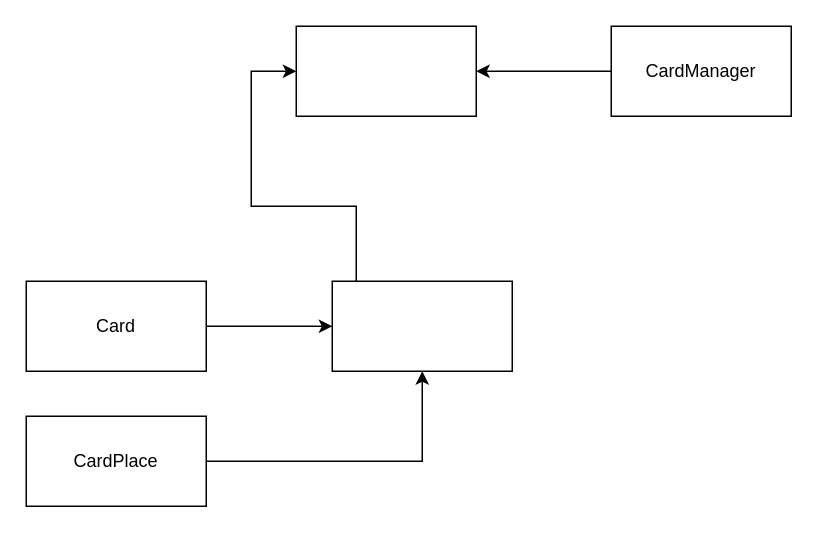
The diagram is 818 pixels wide and 533 high, and some of its shapes have lost their labels. Each missing label, with the centre of its shape:
"BattleScene" belongs at [385,70].
"CardController" belongs at [421,325].
